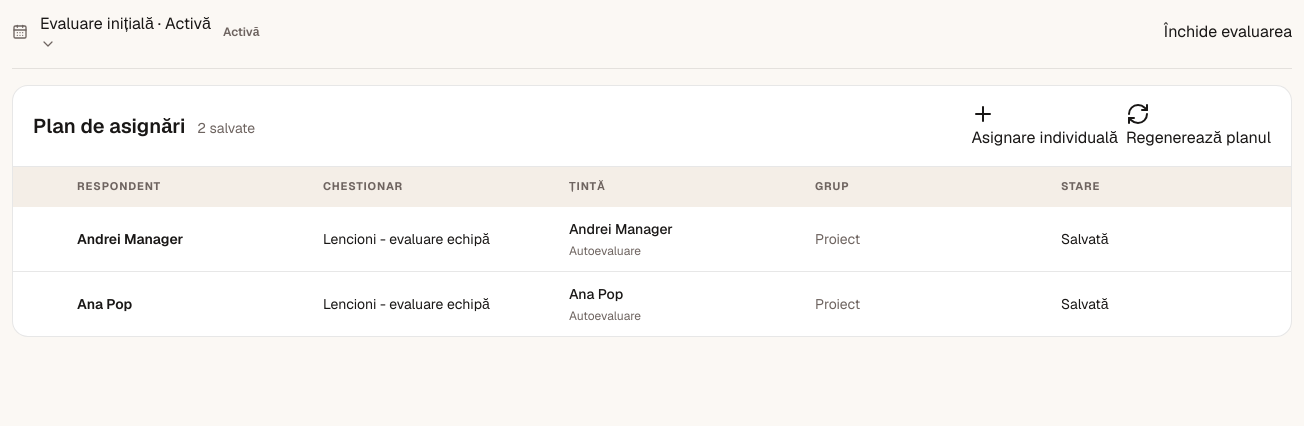
Test: buildInvitationRows › closes an active cycle and makes its assignment plan read-only
The image size is (1304, 426).
Click the button "Închide evaluarea" at (1228, 32), box [1164, 20, 1292, 44]
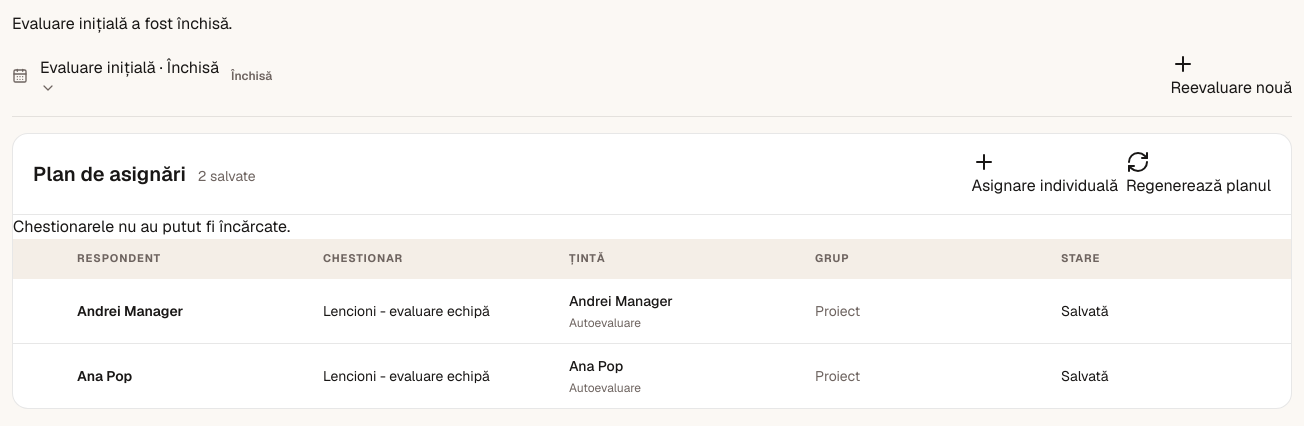
Result: the text "Evaluare inițială a fost închisă." is shown at [12, 13, 232, 34]
Result: the button "Asignare individuală" is disabled at [972, 150, 1118, 198]
